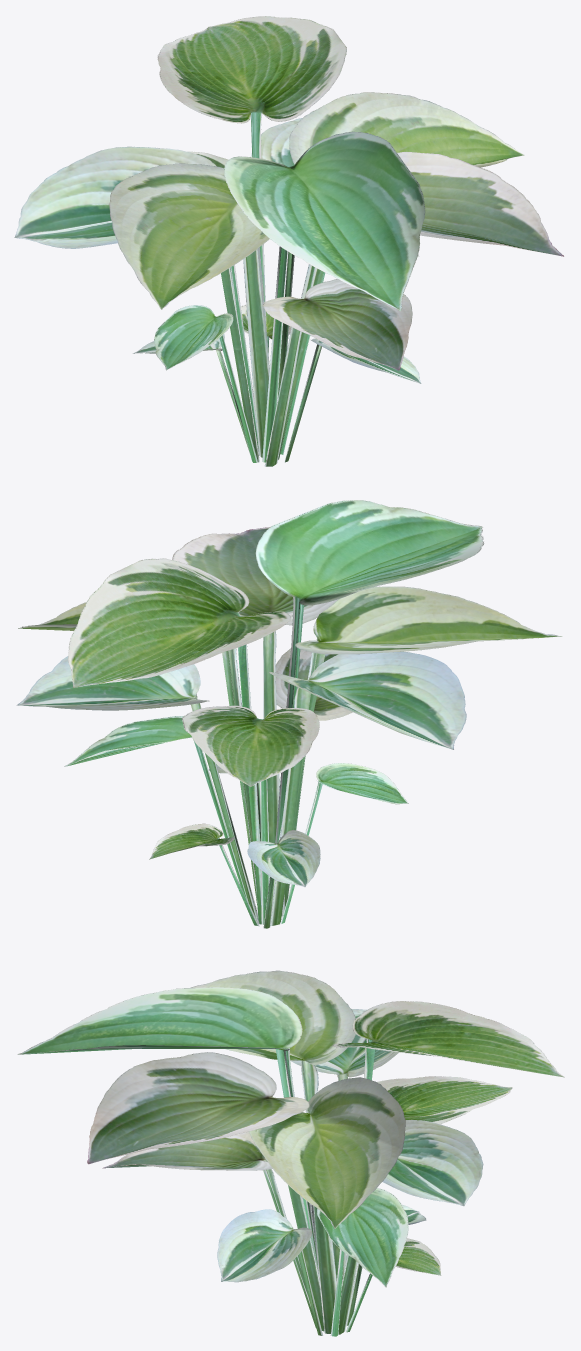
Rendered from plant_small_wg_00C2.fbx.
The picture shows the model from 3 angles, top to bottom: view 1: azimuth 30°, elevation 25°; view 2: azimuth 150°, elevation 25°; view 3: azimuth 270°, elevation 25°; orthographic projection. The views are drawn at different scales.
Parts seen in each view (by area): view 1: plant_small_wg_00C2; view 2: plant_small_wg_00C2; view 3: plant_small_wg_00C2.
Boxes of the visible parts, <box> form: plant_small_wg_00C2: <box>14,16,563,466</box>; plant_small_wg_00C2: <box>16,500,562,928</box>; plant_small_wg_00C2: <box>17,970,564,1336</box>.
Size of the model in its own units: 60.65 by 43.98 by 67.31.
1 material, 1 textured.
